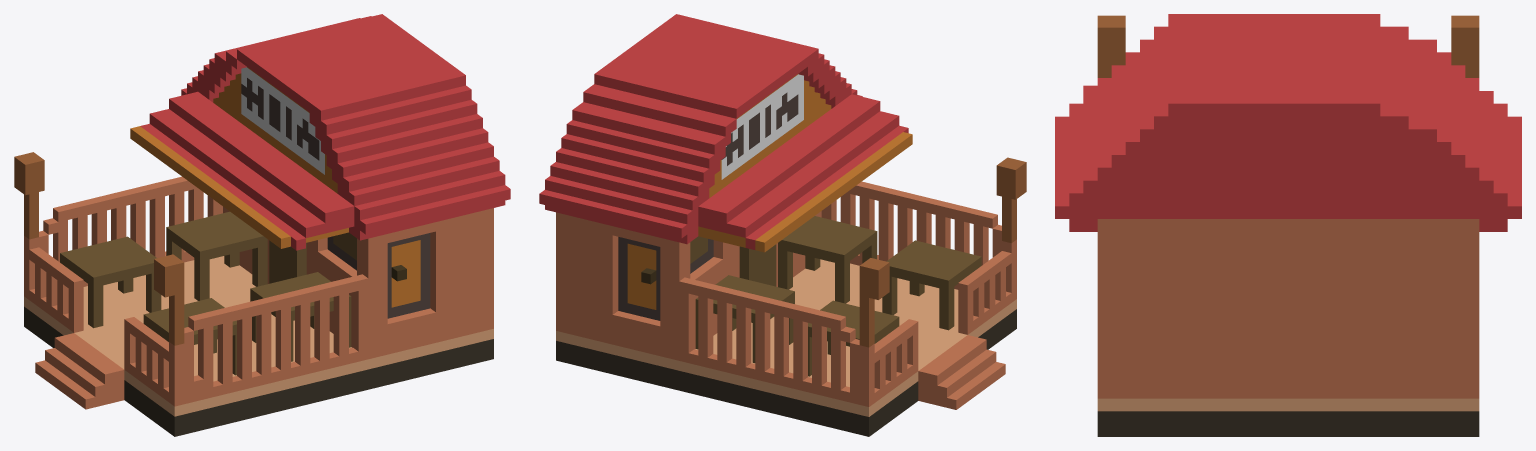
File: id-beach-restaurant.obj
The picture shows the model from 3 angles, left to right: view 1: azimuth 30°, elevation 25°; view 2: azimuth 150°, elevation 25°; view 3: azimuth 270°, elevation 25°; orthographic projection. The views are drawn at different scales.
Bounding box in the file's own units: 37 × 26 × 33.
1 material, 1 textured.
